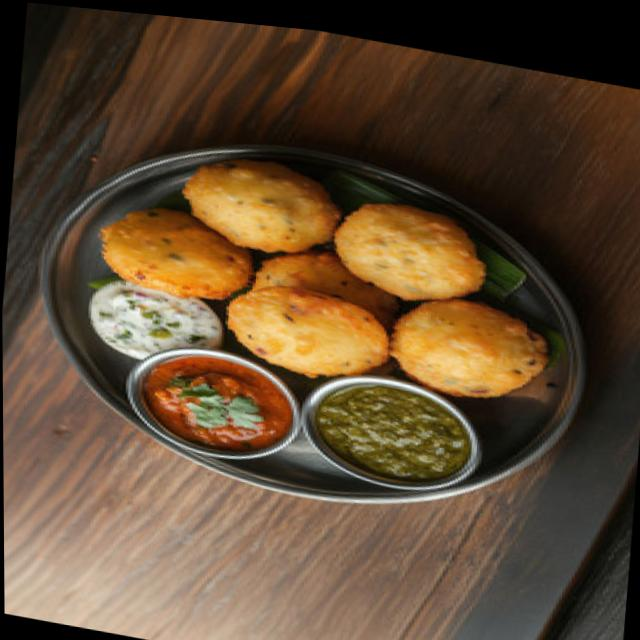BONDA: (100, 157, 548, 395)
GREEN CHUTNEY: (312, 375, 487, 491)
RED CHUTNEY: (128, 343, 294, 458)
WHITE CHUTNEY: (90, 283, 219, 352)
